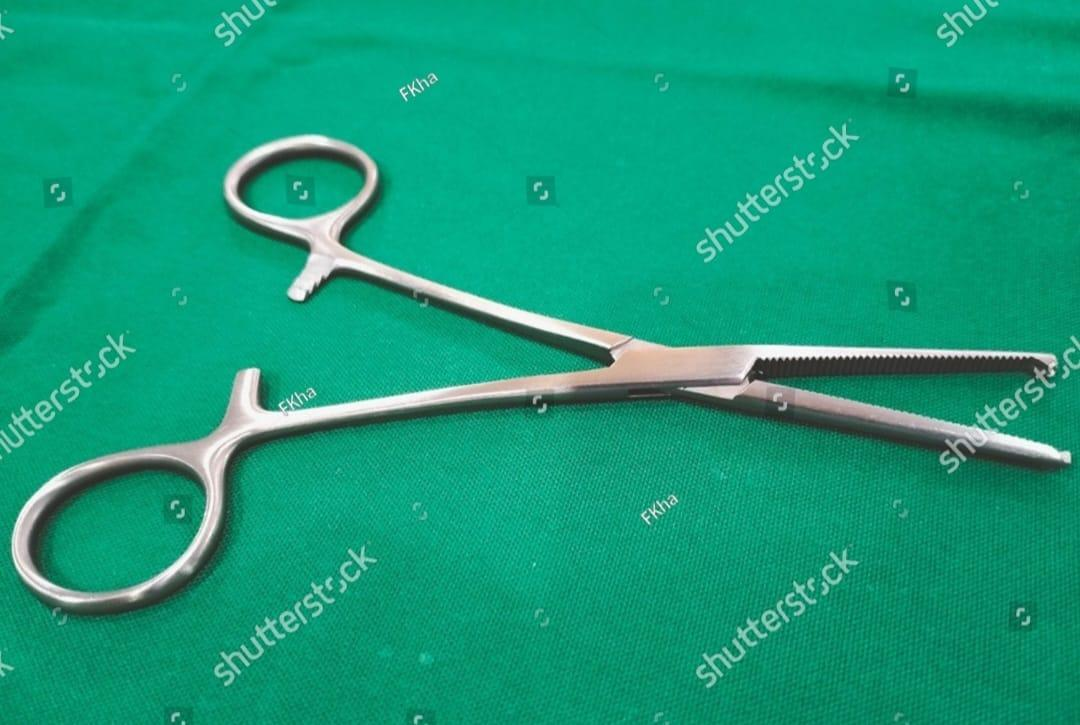Kocher Forceps: (4, 120, 1080, 610)
